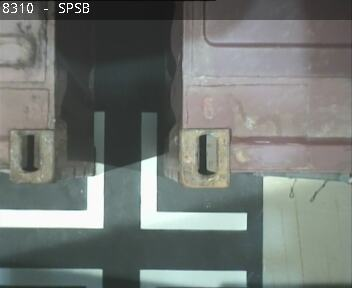groundmarker_1: (1, 113, 248, 228)
